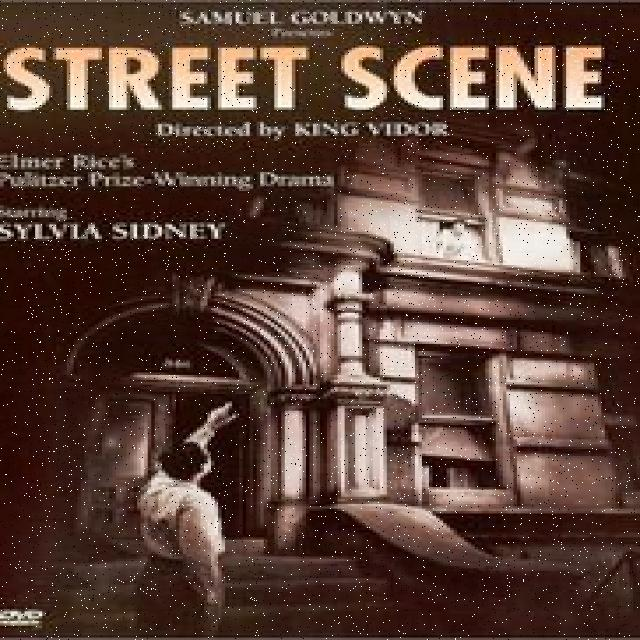movie-judul: (1, 42, 620, 117)
picture: (0, 248, 640, 638)
